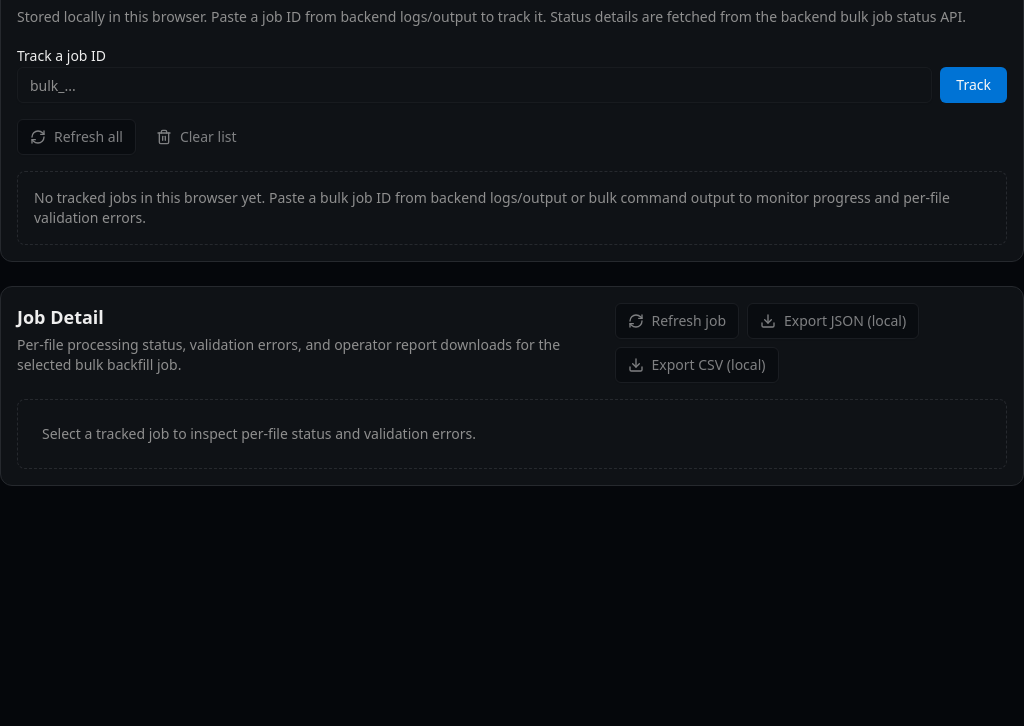
Test: AdminBulkBackfillMonitor › ignores stale successful responses after a newer refresh replaces them
This screenshot has width=1024, height=726.
Type "bulk_race" into the field labelled "Track a job ID".
click(475, 85); type("bulk_race")  # box [17,67,932,103]
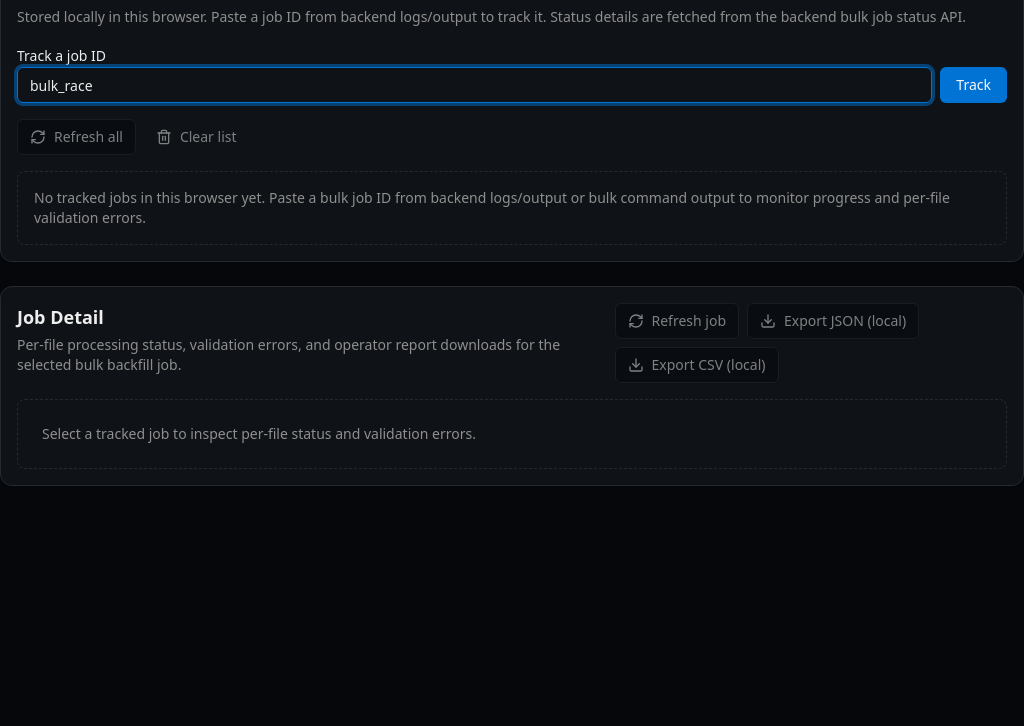
Click the button "Track".
click(974, 85)  # box [940,67,1007,103]
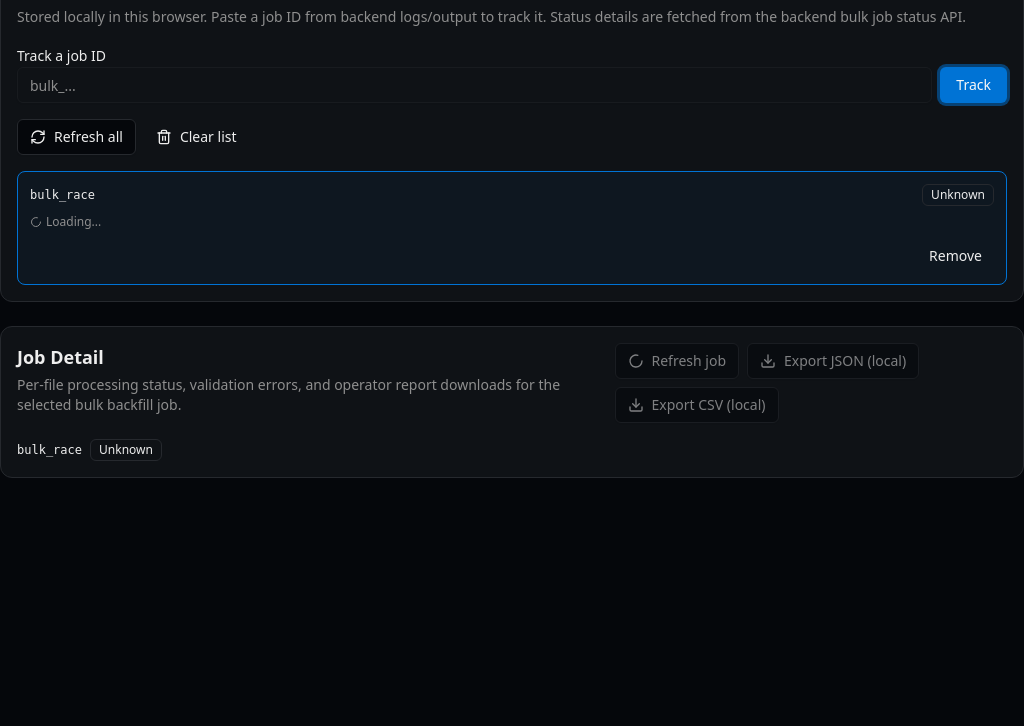
Click the button with aria-label "Refresh tracked jobs".
click(76, 137)  # box [17,119,136,155]
(page scrolled)
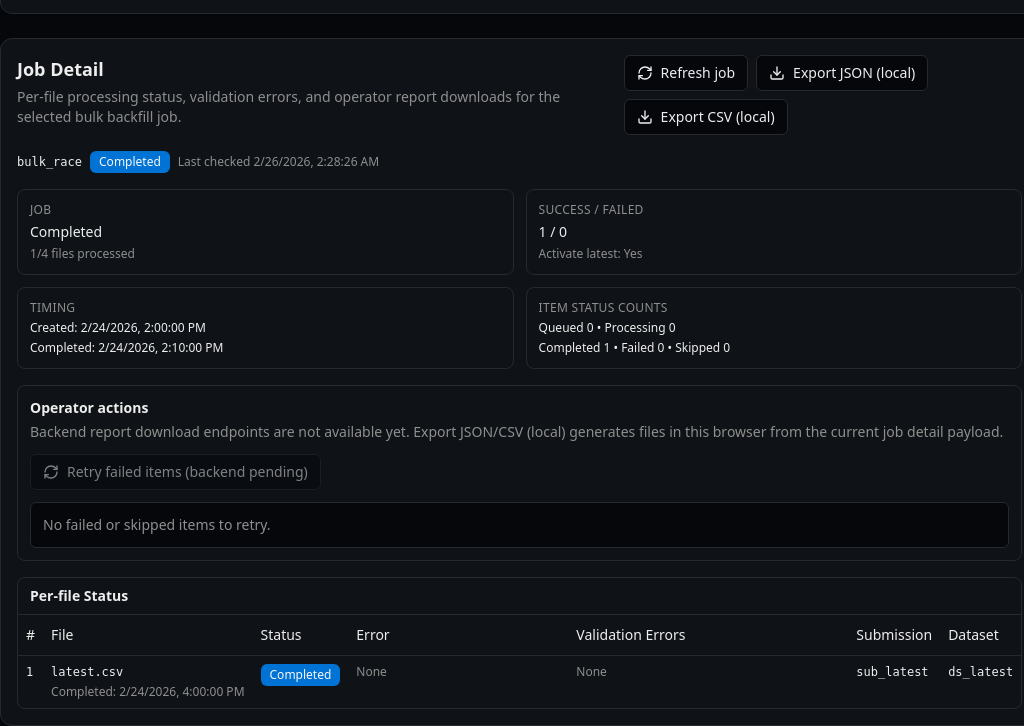
Expected: the text "latest.csv" is shown, [51,664,123,678]
